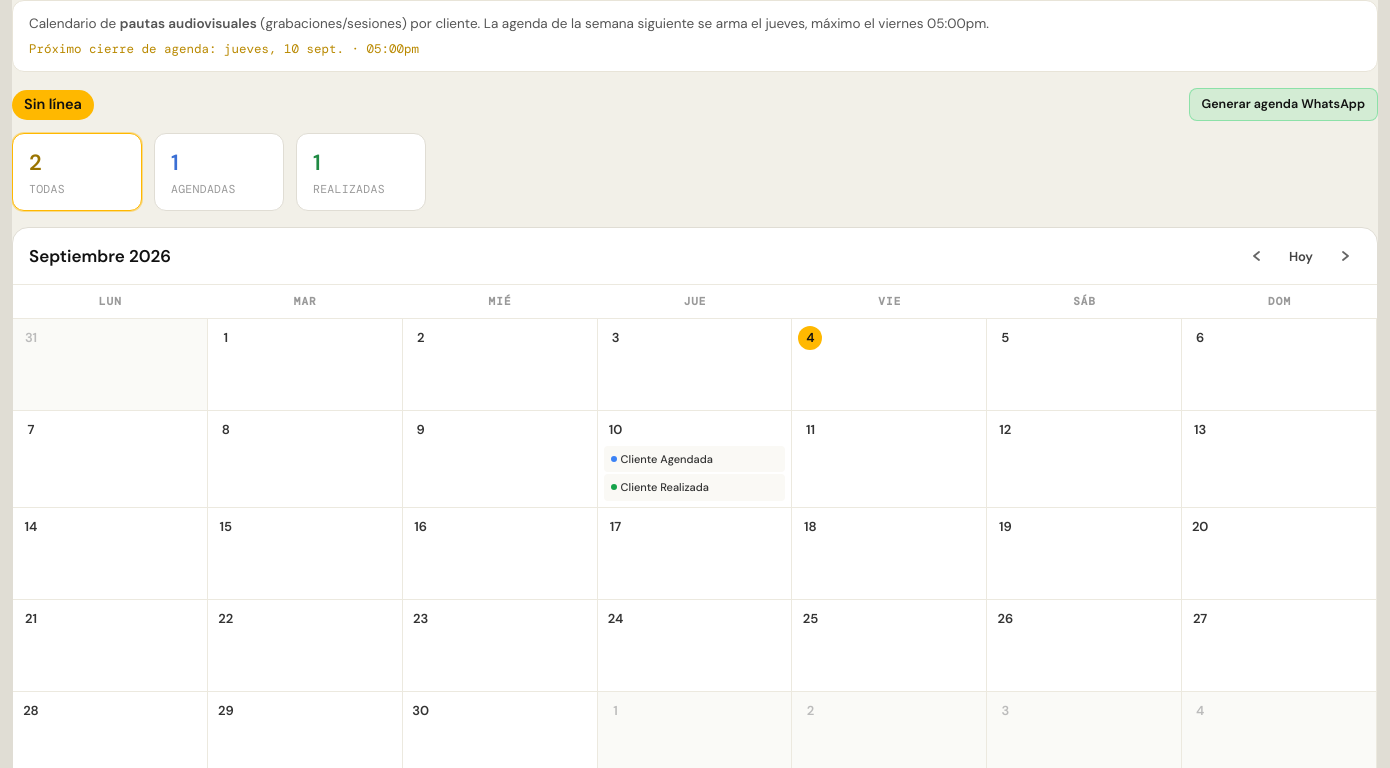
Test: AudiovisualView — SummaryCard (Todas/Agendadas/Realizadas) filtra SOLO el calendario › "Todas" restablece el calendario sin filtrar
The width and height of the screenshot is (1390, 768).
Expected: the button titled "Cliente Agendada" is shown, [604, 446, 786, 472]
Click the button "1 Realizadas" at (361, 172), box [296, 133, 426, 211]
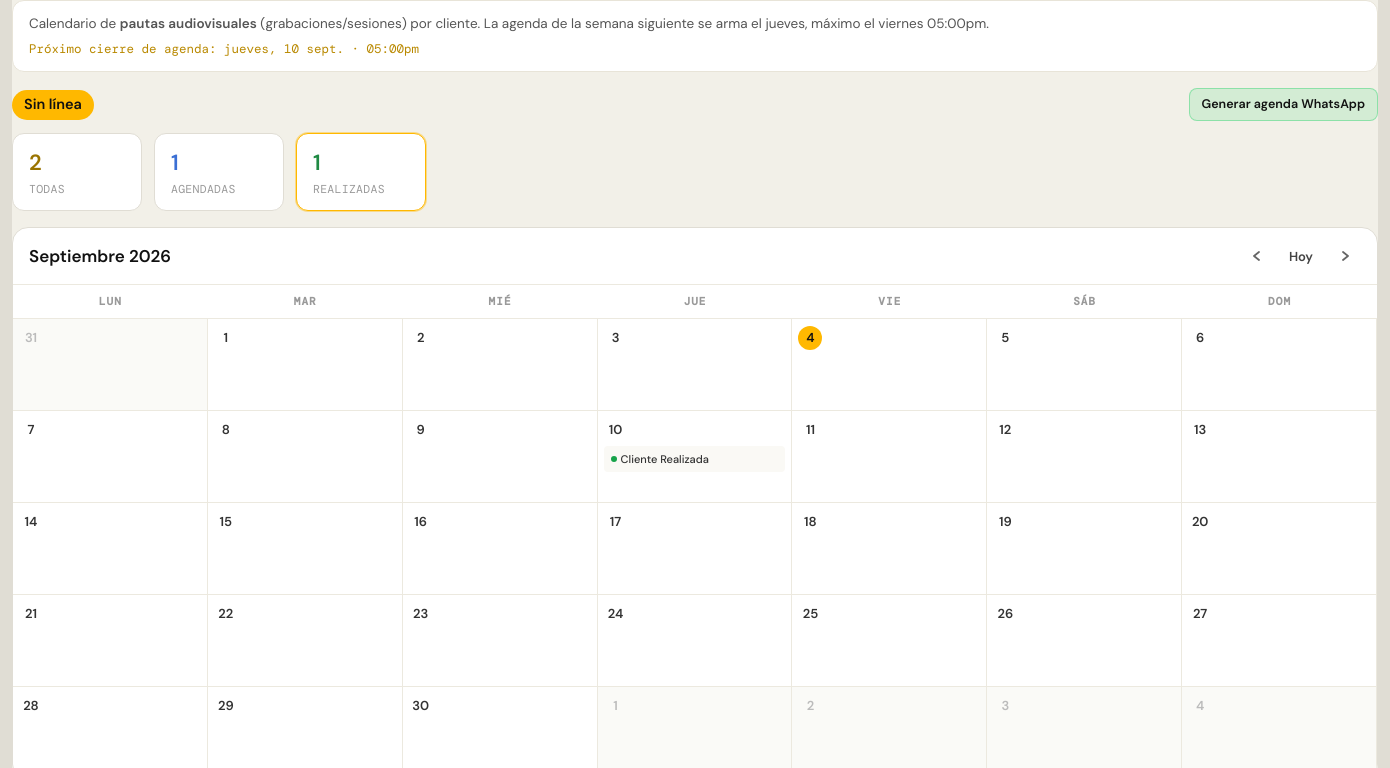
Expected: the button titled "Cliente Agendada" is gone
Click the button "2 Todas" at (77, 172), box [12, 133, 142, 211]
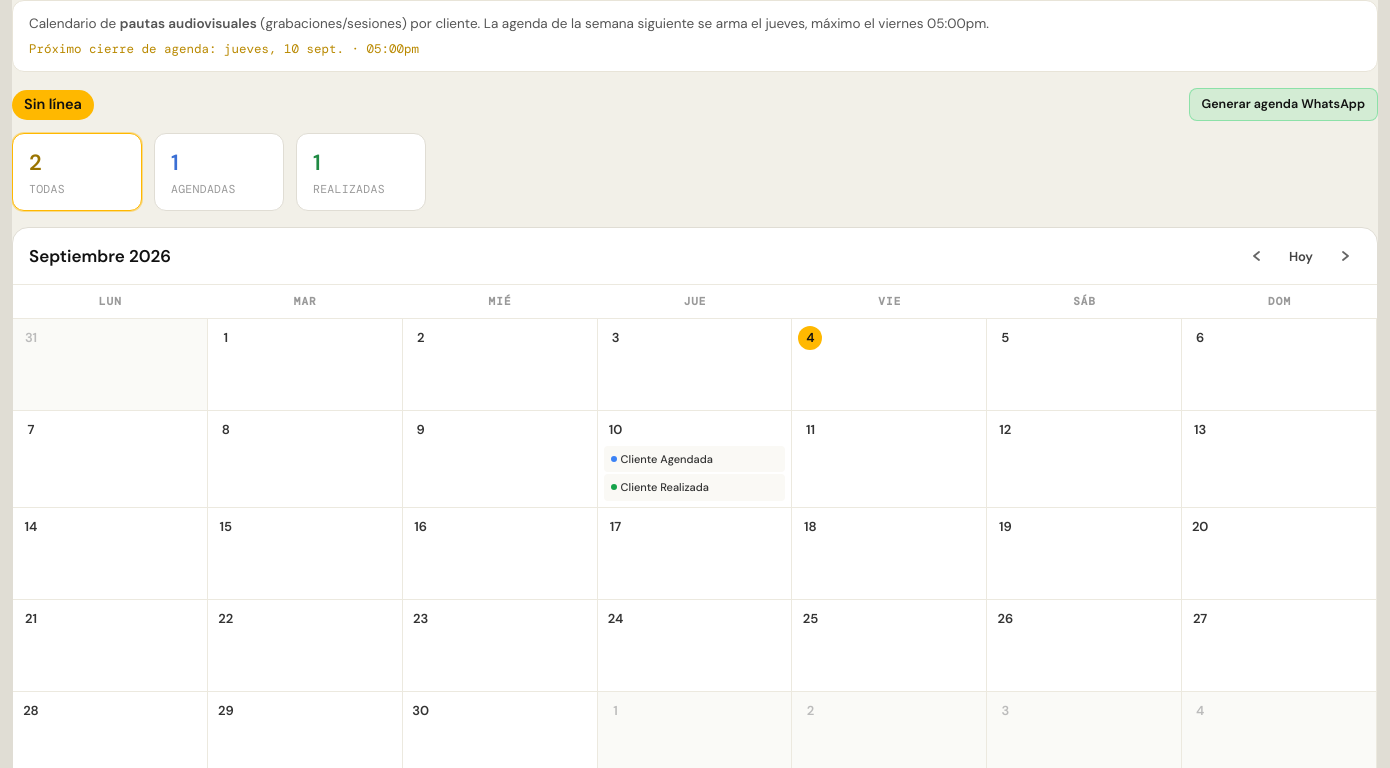
Expected: the button titled "Cliente Realizada" is shown, [604, 474, 786, 500]
Expected: the button titled "Cliente Agendada" is shown, [604, 446, 786, 472]
